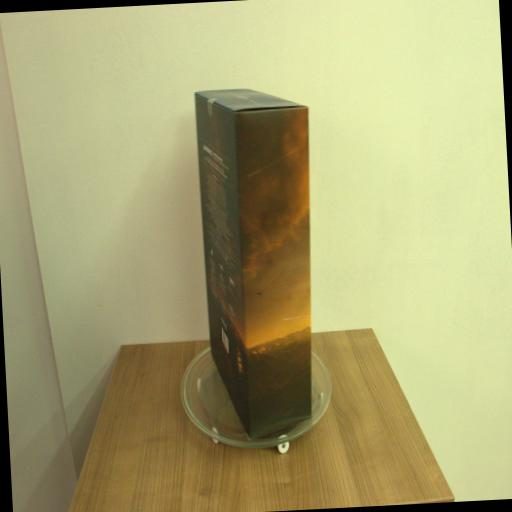superman: (193, 86, 325, 443)
